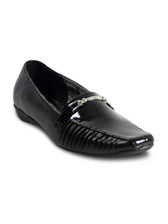shoes: (12, 53, 160, 158)
